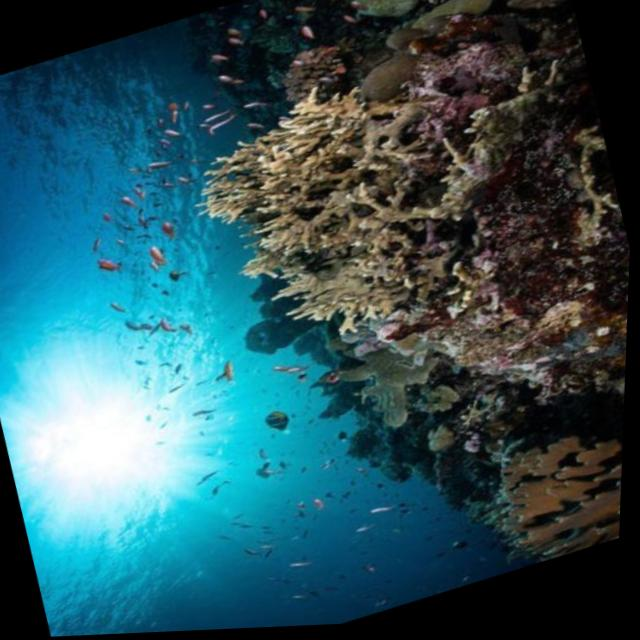Healthy Coral: (140, 0, 640, 634)
